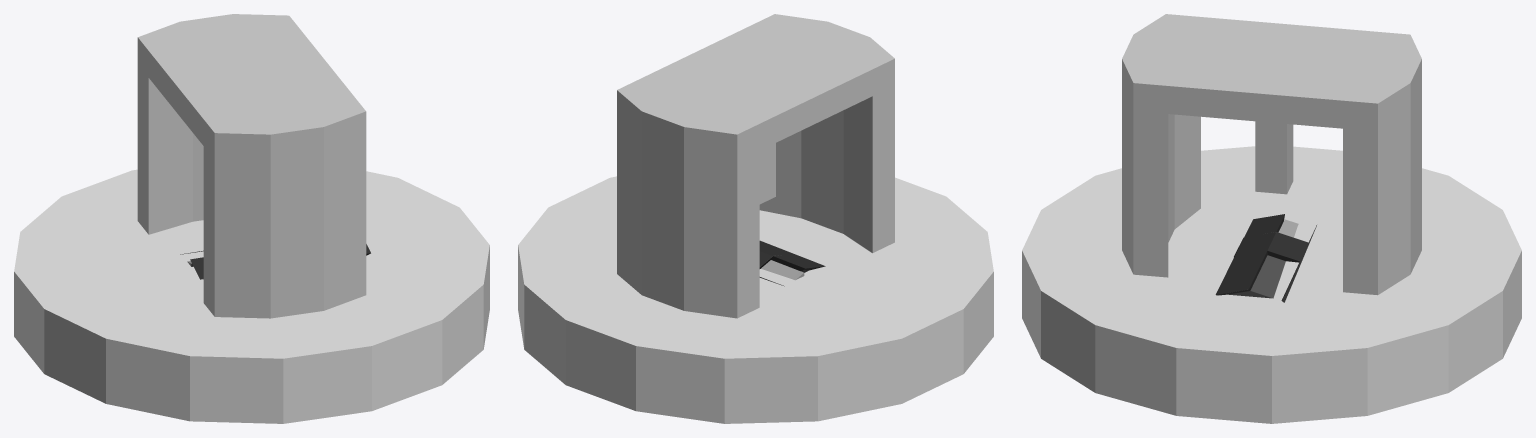
File: building_base_model.dae
The picture shows the model from 3 angles, left to right: view 1: azimuth 30°, elevation 25°; view 2: azimuth 150°, elevation 25°; view 3: azimuth 270°, elevation 25°; orthographic projection. The views are drawn at different scales.
Parts seen in each view (by area): view 1: BuildingBase, TurretBase; view 2: BuildingBase, TurretBase, Drum; view 3: BuildingBase, TurretBase, Drum.
Part boxes in pixels (x1,y1,x2,y2): BuildingBase: (14,169,489,423); TurretBase: (137,14,366,318); BuildingBase: (518,176,993,423); TurretBase: (617,14,894,318); Drum: (759,240,825,286); BuildingBase: (1022,146,1521,423); TurretBase: (1122,14,1421,295); Drum: (1215,214,1316,302).
Size of the model in its own units: 4 by 4 by 2.68.
3 materials, 1 textured.
